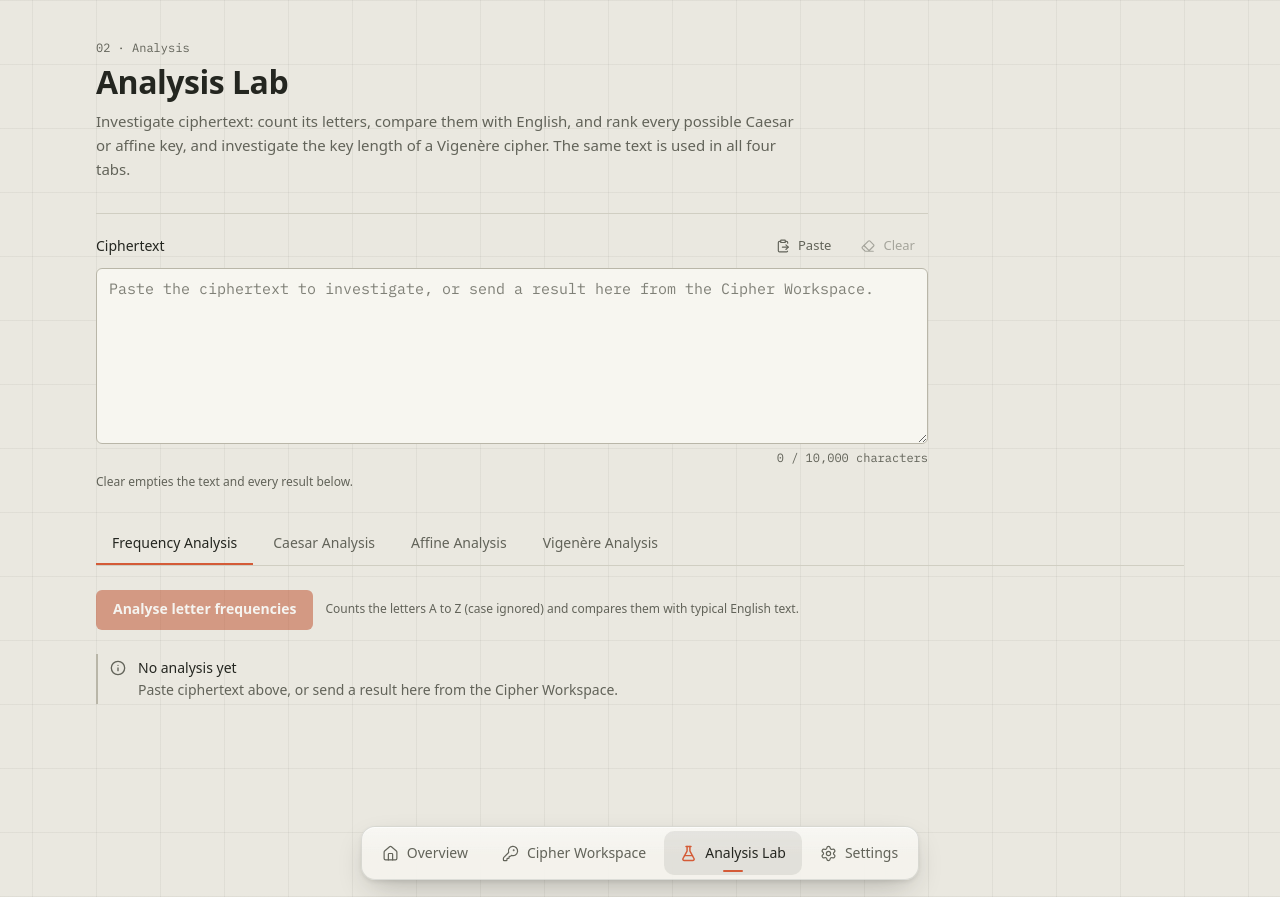
Test: frequency analysis › switches the chart between percent and count
The width and height of the screenshot is (1280, 897).
Clear the text box labelled "Ciphertext": (512, 356) [96,268,928,444]
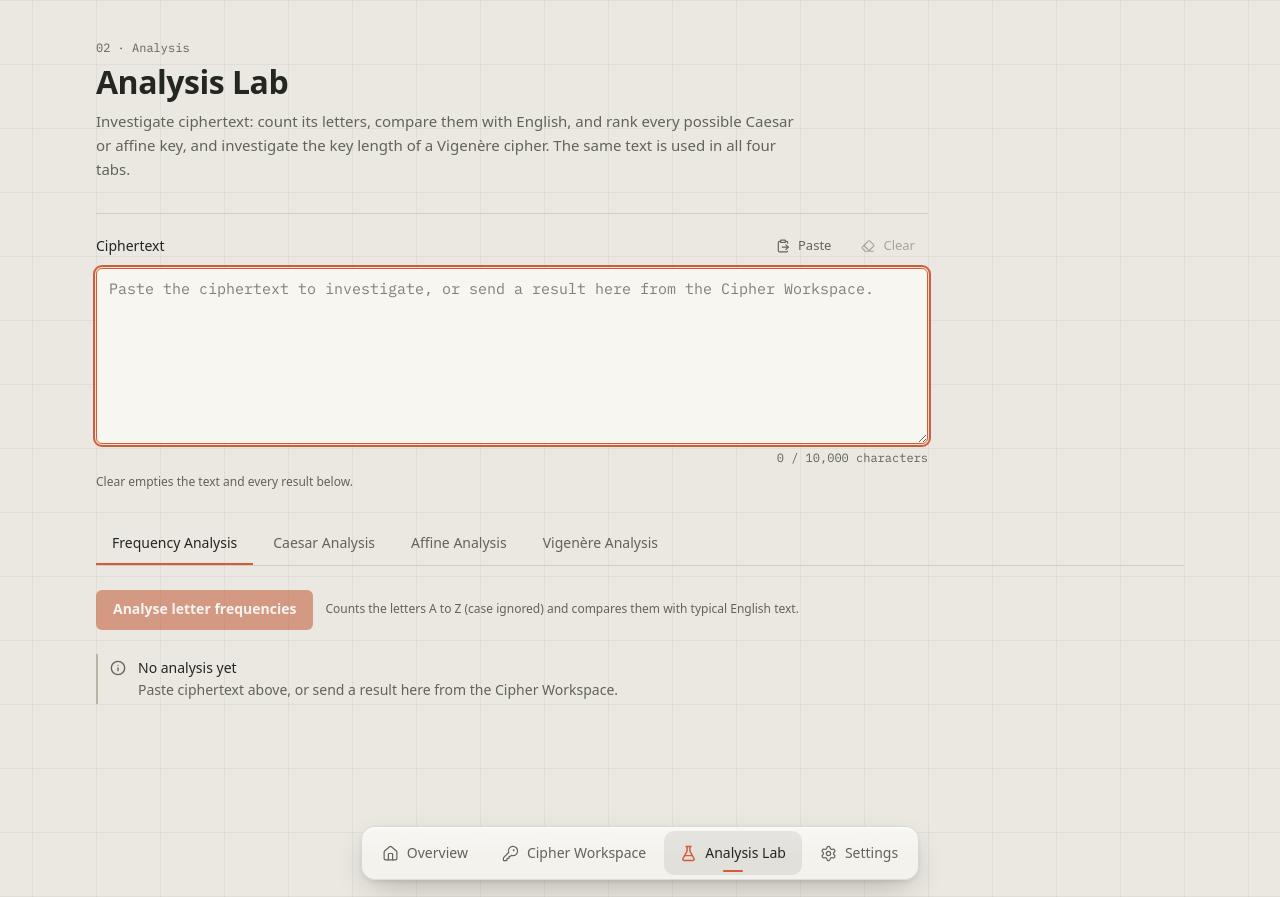
Type keys "eeee tt"
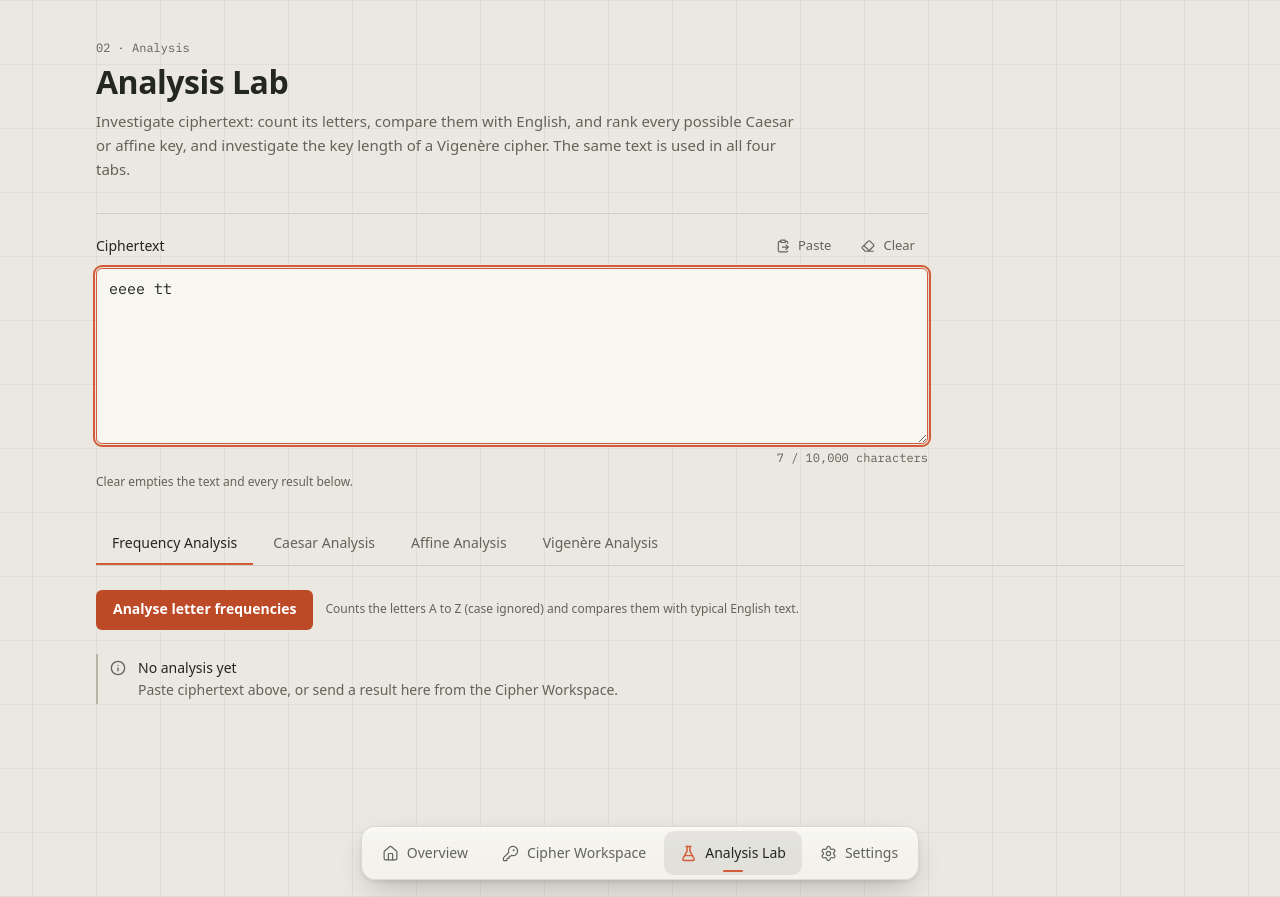
Click the button "Analyse letter frequencies": (205, 610) [96,590,313,630]
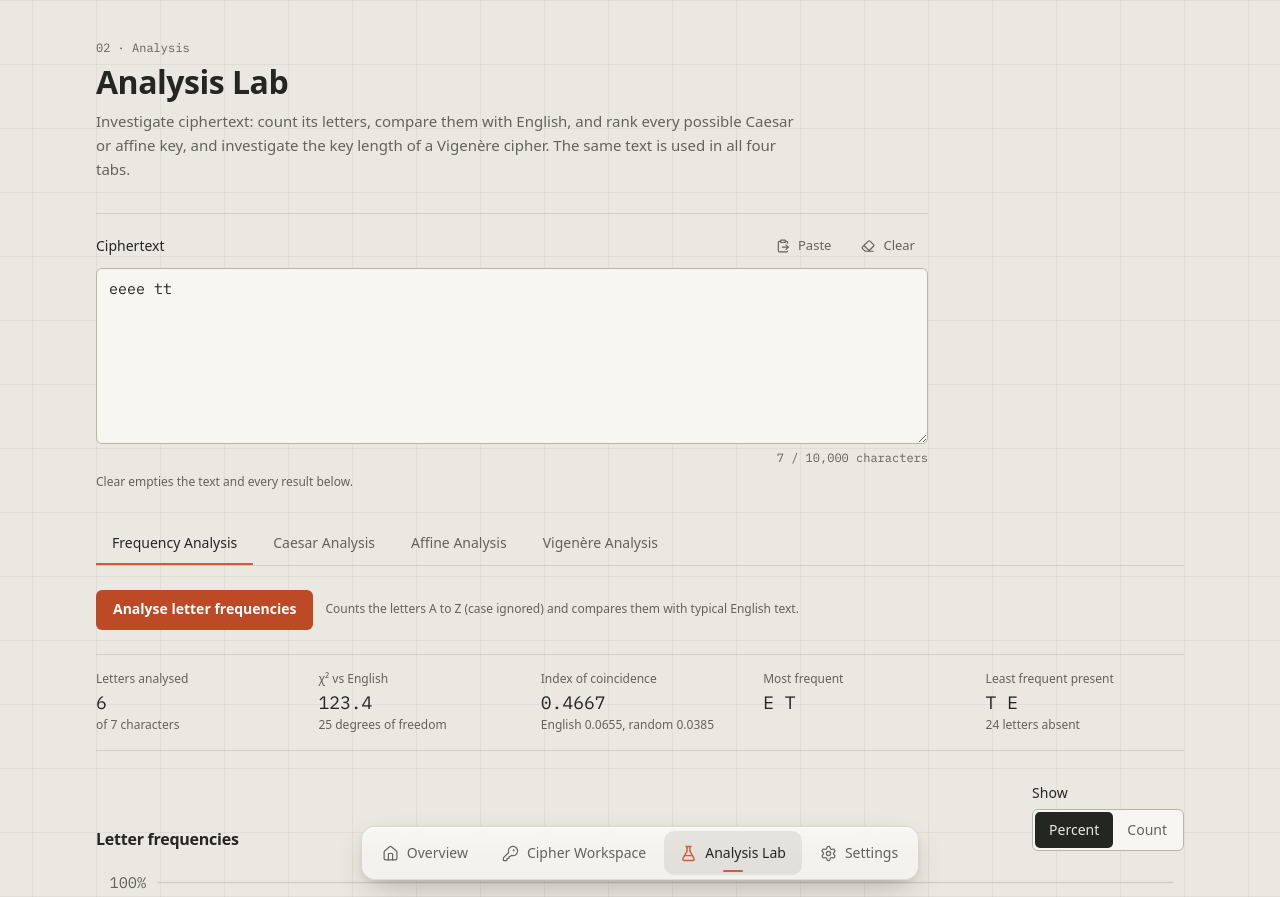
Click the radio button labelled "Count": (1147, 830) [1127,820,1167,839]
(page scrolled)
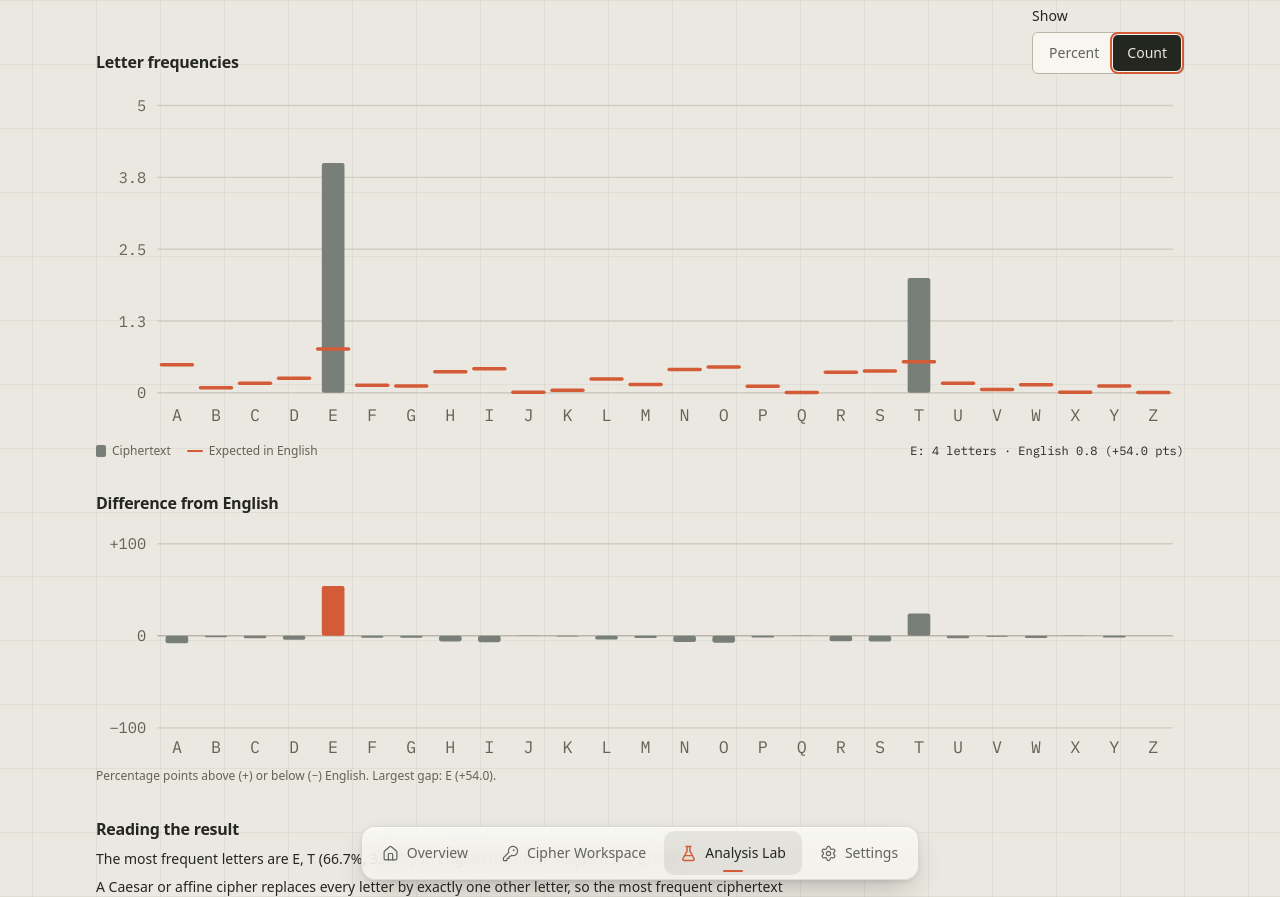
expect the text with test id "chart-readout" shows "E: 4 letters": met, box [910,443,1184,459]
